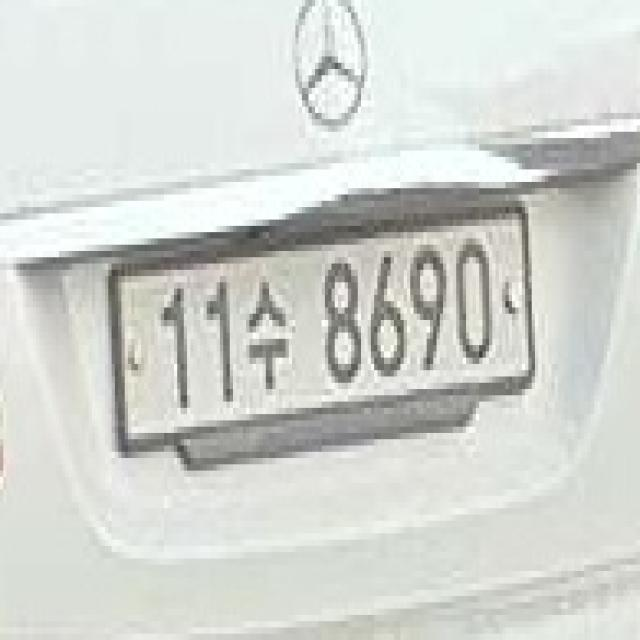plat: (101, 189, 537, 471)
